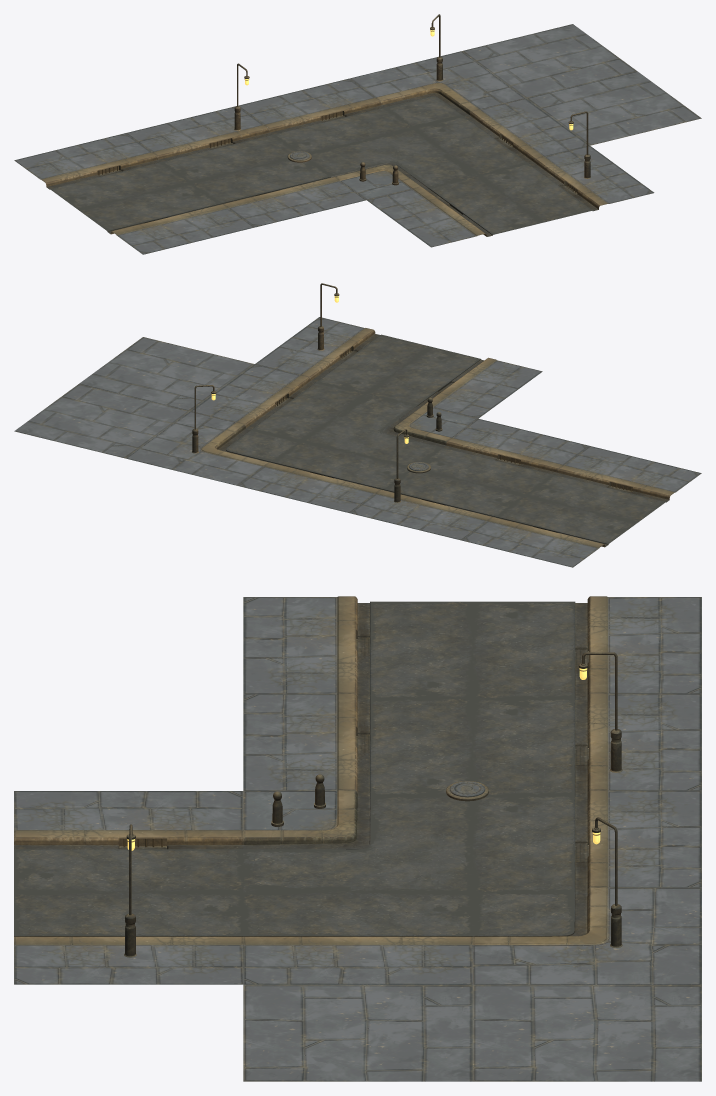
The model's file is street.glb.
3 views of the same model, one above another, from view 1: azimuth 30°, elevation 25°; view 2: azimuth 150°, elevation 25°; view 3: azimuth 270°, elevation 25° (orthographic). The views are drawn at different scales.
Parts seen in each view (by area): view 1: streetstraight_4, streetstraight_1, streetstraight_2, streetstraight, streetcornerIN, streetstraight_7, streetplane_1, streetplane, streetstraight_6, streetstraight_5, streetstraight_3, streetcornerOUt (+1 smaller); view 2: streetstraight_5, streetstraight_3, streetstraight_2, streetstraight_7, streetplane_1, streetplane, streetstraight_6, streetcornerOUt, streetcornerIN, streetstraight_4, streetstraight_1, streetstraight; view 3: streetstraight_6, streetplane, streetplane_1, streetstraight_5, streetcornerOUt, streetstraight_4, streetstraight_1, streetstraight_3, streetstraight, streetcornerIN, streetstraight_2, streetstraight_7 (+3 smaller).
Part boxes in pixels (left/top/right/bottom): streetstraight_4: left=14, top=133, right=189, bottom=209; streetstraight_1: left=238, top=78, right=413, bottom=153; streetstraight_2: left=414, top=98, right=589, bottom=175; streetstraight: left=126, top=106, right=295, bottom=182; streetcornerIN: left=349, top=51, right=525, bottom=127; streetstraight_7: left=478, top=146, right=654, bottom=222; streetplane_1: left=461, top=24, right=636, bottom=98; streetplane: left=526, top=71, right=701, bottom=145; streetstraight_6: left=367, top=175, right=542, bottom=247; streetstraight_5: left=79, top=183, right=254, bottom=254; streetstraight_3: left=190, top=159, right=365, bottom=227; streetcornerOUt: left=309, top=128, right=477, bottom=200; streetstraight_5: left=526, top=446, right=701, bottom=522; streetstraight_3: left=423, top=418, right=589, bottom=495; streetstraight_2: left=190, top=364, right=365, bottom=440; streetstraight_7: left=255, top=317, right=430, bottom=393; streetplane_1: left=14, top=384, right=189, bottom=458; streetplane: left=79, top=337, right=254, bottom=411; streetstraight_6: left=367, top=346, right=542, bottom=418; streetcornerOUt: left=302, top=394, right=477, bottom=466; streetcornerIN: left=126, top=411, right=301, bottom=485; streetstraight_4: left=461, top=496, right=636, bottom=567; streetstraight_1: left=238, top=441, right=409, bottom=512; streetstraight: left=349, top=471, right=525, bottom=540; streetstraight_6: left=14, top=791, right=243, bottom=892; streetplane: left=243, top=984, right=472, bottom=1081; streetplane_1: left=472, top=984, right=701, bottom=1081; streetstraight_5: left=243, top=596, right=472, bottom=699; streetcornerOUt: left=243, top=790, right=472, bottom=892; streetstraight_4: left=472, top=596, right=701, bottom=699; streetstraight_1: left=472, top=790, right=701, bottom=893; streetstraight_3: left=243, top=693, right=472, bottom=796; streetstraight: left=472, top=693, right=701, bottom=796; streetcornerIN: left=472, top=887, right=701, bottom=984; streetstraight_2: left=243, top=892, right=472, bottom=984; streetstraight_7: left=14, top=892, right=243, bottom=984.
Bounding box in the file's own units: 4000 × 490 × 2400.
1 material, 1 textured.
